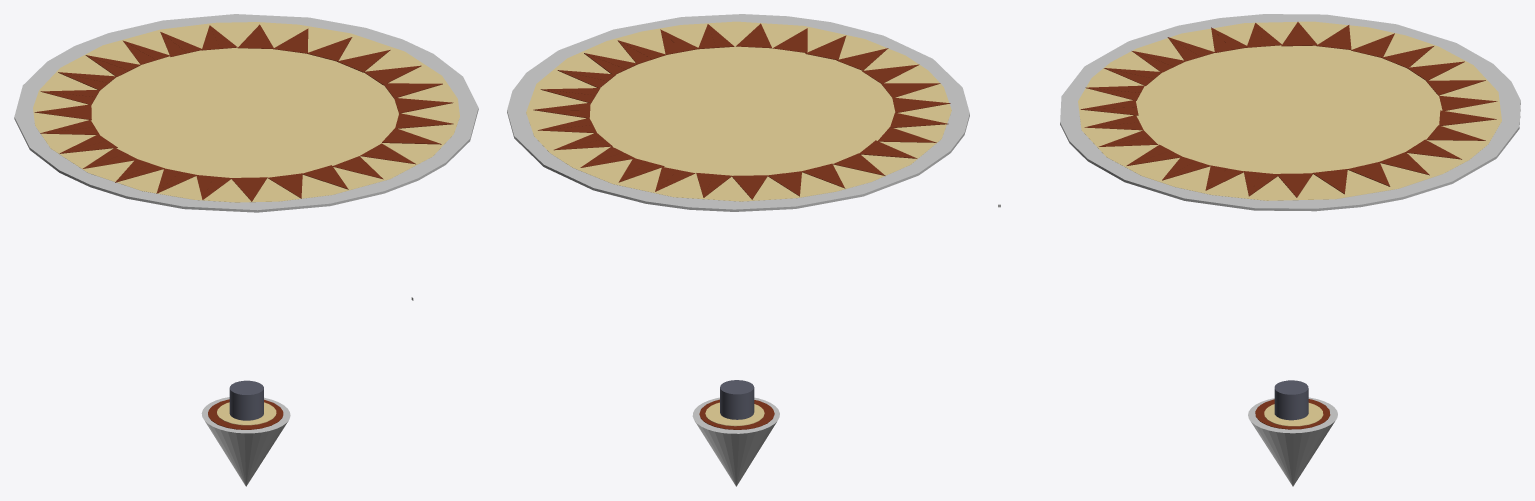
Rendered from Tournament of Power.obj.
The picture shows the model from 3 angles, left to right: view 1: azimuth 30°, elevation 25°; view 2: azimuth 150°, elevation 25°; view 3: azimuth 270°, elevation 25°; orthographic projection.
Visible parts, largest first — view 1: D1, E1, Part4, Tip3, Tip2, Tip1, Part3, Part5; view 2: D1, E1, Tip6, Part4, Tip1, Part3, Part5, Tip2; view 3: D1, E1, Tip4, Part4, Tip1, Part5, Part3.
Part boxes in pixels (<box>): D1: <box>33,22,459,202</box>; E1: <box>14,14,478,212</box>; Part4: <box>229,380,263,420</box>; Tip3: <box>244,421,288,486</box>; Tip2: <box>205,421,245,485</box>; Tip1: <box>201,397,290,433</box>; Part3: <box>208,399,283,429</box>; Part5: <box>217,402,276,425</box>; D1: <box>526,21,951,201</box>; E1: <box>507,14,969,211</box>; Tip6: <box>697,424,755,486</box>; Part4: <box>720,380,754,419</box>; Tip1: <box>692,397,779,433</box>; Part3: <box>699,399,774,429</box>; Part5: <box>705,402,764,426</box>; Tip2: <box>737,422,776,485</box>; D1: <box>1078,21,1501,200</box>; E1: <box>1060,14,1520,211</box>; Tip4: <box>1268,425,1330,486</box>; Part4: <box>1274,380,1308,420</box>; Tip1: <box>1248,397,1337,433</box>; Part5: <box>1264,403,1323,426</box>; Part3: <box>1255,399,1330,429</box>.
Size of the model in its own units: 639 by 576 by 726.
